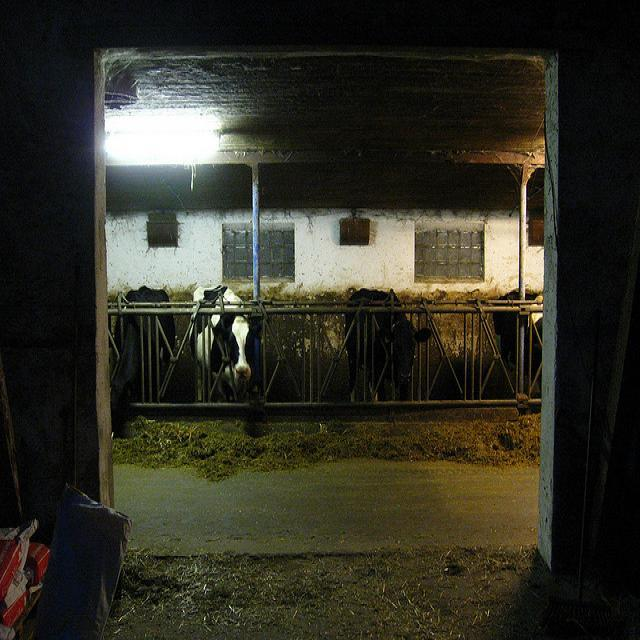cow: (107, 283, 174, 436), (343, 287, 432, 401), (183, 279, 255, 400), (489, 292, 542, 387)
